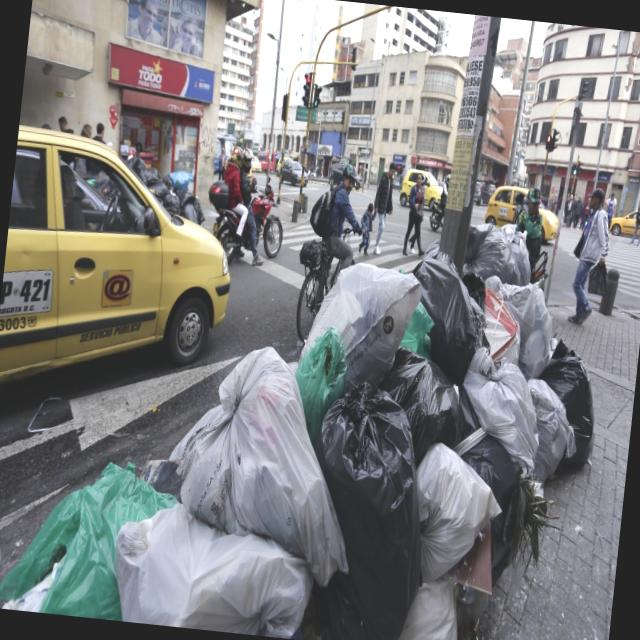garbage: (0, 180, 616, 640)
